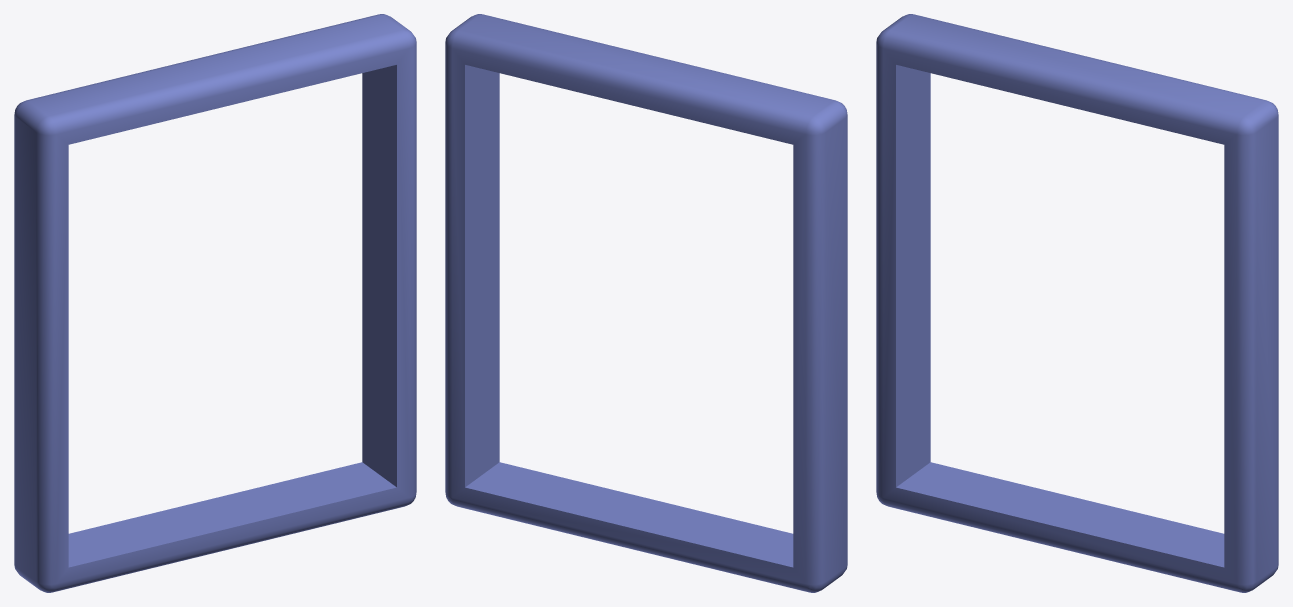
File: FRC973 bumper.fbx
3 views of the same model, side by side, from view 1: azimuth 30°, elevation 25°; view 2: azimuth 150°, elevation 25°; view 3: azimuth 330°, elevation 25° (orthographic).
Parts seen in each view (by area): view 1: Body1.002; view 2: Body1.002; view 3: Body1.002.
Part boxes in pixels (bbox=[...]): Body1.002: bbox=[14, 14, 416, 592]; Body1.002: bbox=[445, 14, 847, 592]; Body1.002: bbox=[876, 14, 1278, 592].
Bounding box in the file's own units: 3000 × 3600 × 475.
